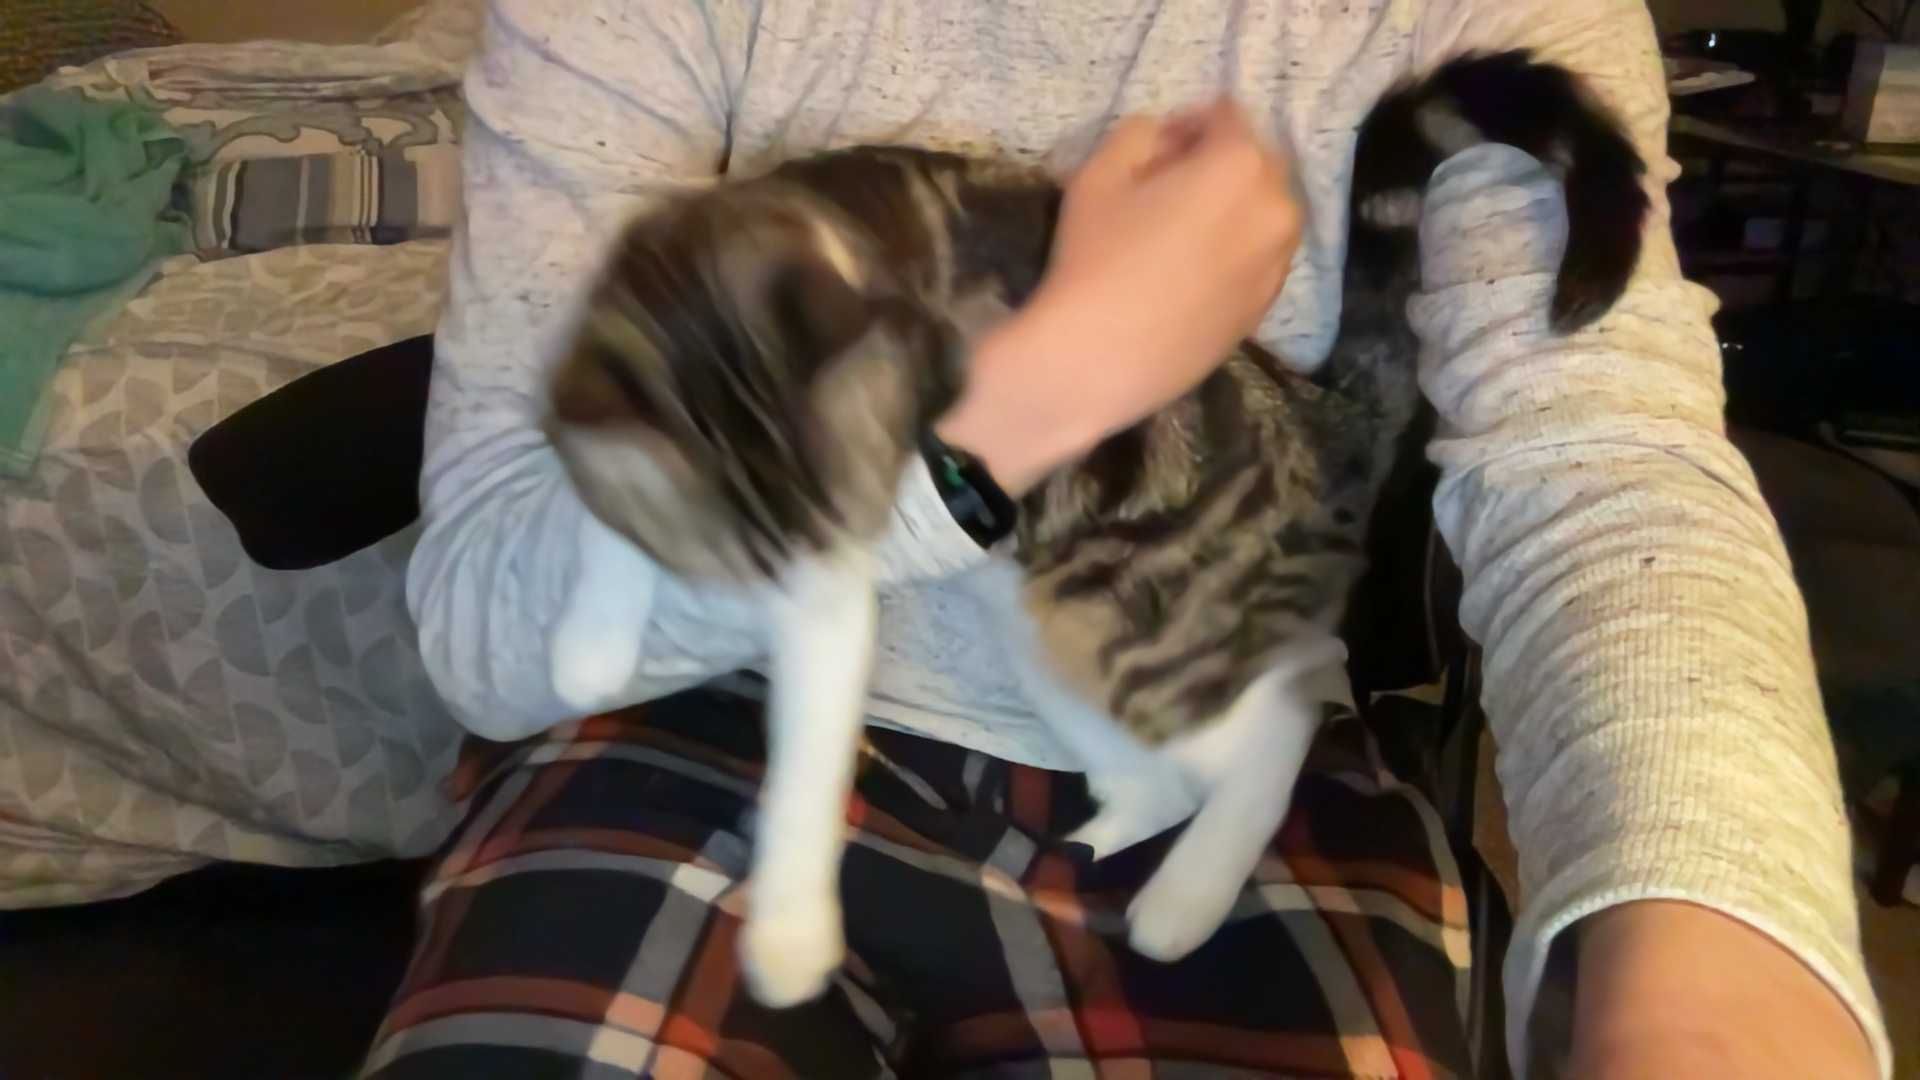cat: (513, 131, 1360, 990)
